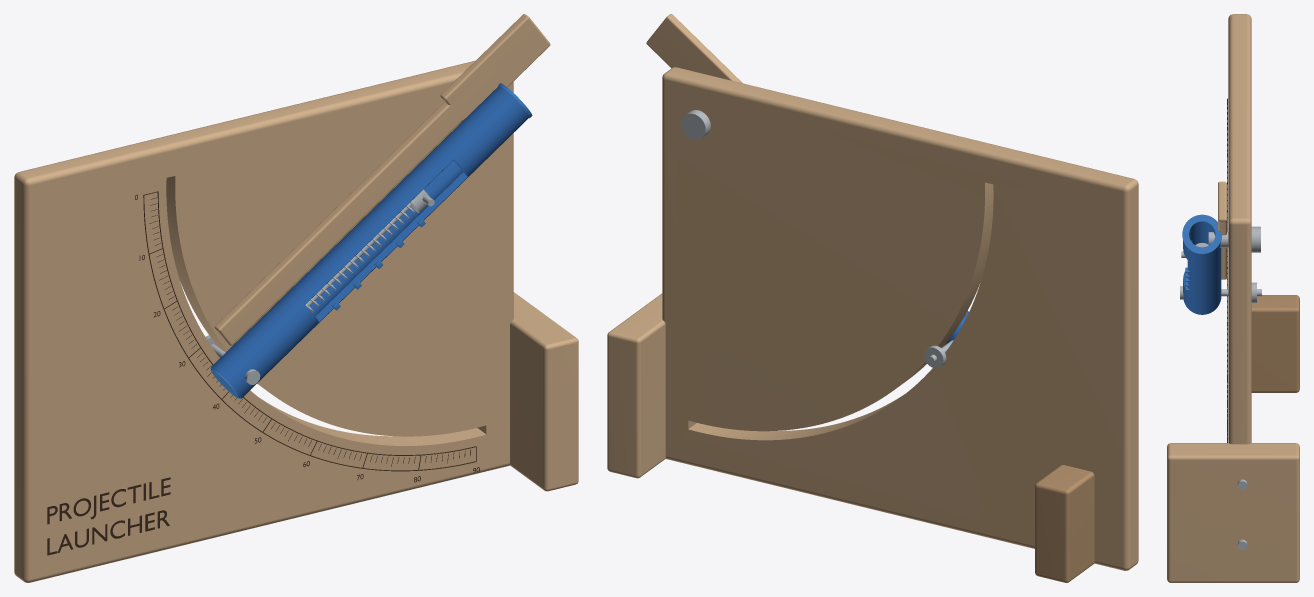
Rendered from boreal-fundamentals.glb.
3 renders of one model, left to right at view 1: azimuth 30°, elevation 25°; view 2: azimuth 150°, elevation 25°; view 3: azimuth 270°, elevation 25°, orthographic. The views are drawn at different scales.
Parts seen in each view (by area): view 1: Rounded wooden protractor panel, Right stabilizing foot, Pivoting wooden guide backing, Slotted loading channel, Closed breech sleeve, Blue muzzle sleeve, Extended wood support tab, Panel title, Panel title lower, Printed protractor boundary.001; view 2: Rounded wooden protractor panel, Right stabilizing foot, Rear left stabilizing foot, Extended wood support tab, Rear pivot retaining washer; view 3: Right stabilizing foot, Rounded wooden protractor panel, Rear left stabilizing foot, Slotted loading channel, Blue muzzle sleeve, Machined muzzle lip, Closed breech sleeve, Extended wood support tab, Printed protractor boundary, Rear pivot retaining washer, Pivoting wooden guide backing, Pivot shaft.
Boxes of the visible parts, x1,y1,x2,y2 form: Rounded wooden protractor panel: [14, 60, 513, 582]; Right stabilizing foot: [510, 292, 578, 491]; Pivoting wooden guide backing: [214, 64, 504, 345]; Slotted loading channel: [288, 146, 467, 322]; Closed breech sleeve: [210, 291, 318, 398]; Blue muzzle sleeve: [437, 86, 529, 176]; Extended wood support tab: [440, 14, 550, 122]; Panel title: [47, 477, 170, 524]; Panel title lower: [47, 510, 169, 555]; Printed protractor boundary.001: [143, 195, 475, 471]; Rounded wooden protractor panel: [662, 67, 1138, 570]; Right stabilizing foot: [607, 293, 665, 478]; Rear left stabilizing foot: [1035, 465, 1094, 582]; Extended wood support tab: [646, 14, 742, 83]; Rear pivot retaining washer: [681, 110, 710, 139]; Right stabilizing foot: [1167, 443, 1299, 582]; Rounded wooden protractor panel: [1228, 14, 1251, 444]; Rear left stabilizing foot: [1251, 295, 1299, 392]; Slotted loading channel: [1187, 235, 1221, 298]; Blue muzzle sleeve: [1183, 222, 1221, 266]; Machined muzzle lip: [1182, 214, 1222, 254]; Closed breech sleeve: [1183, 271, 1221, 314]; Extended wood support tab: [1218, 181, 1226, 235]; Printed protractor boundary: [1227, 104, 1227, 442]; Rear pivot retaining washer: [1251, 226, 1260, 252]; Pivoting wooden guide backing: [1221, 247, 1226, 279]; Pivot shaft: [1208, 232, 1228, 247].
Size of the model in its own units: 0.404 by 0.3328 by 0.102.
